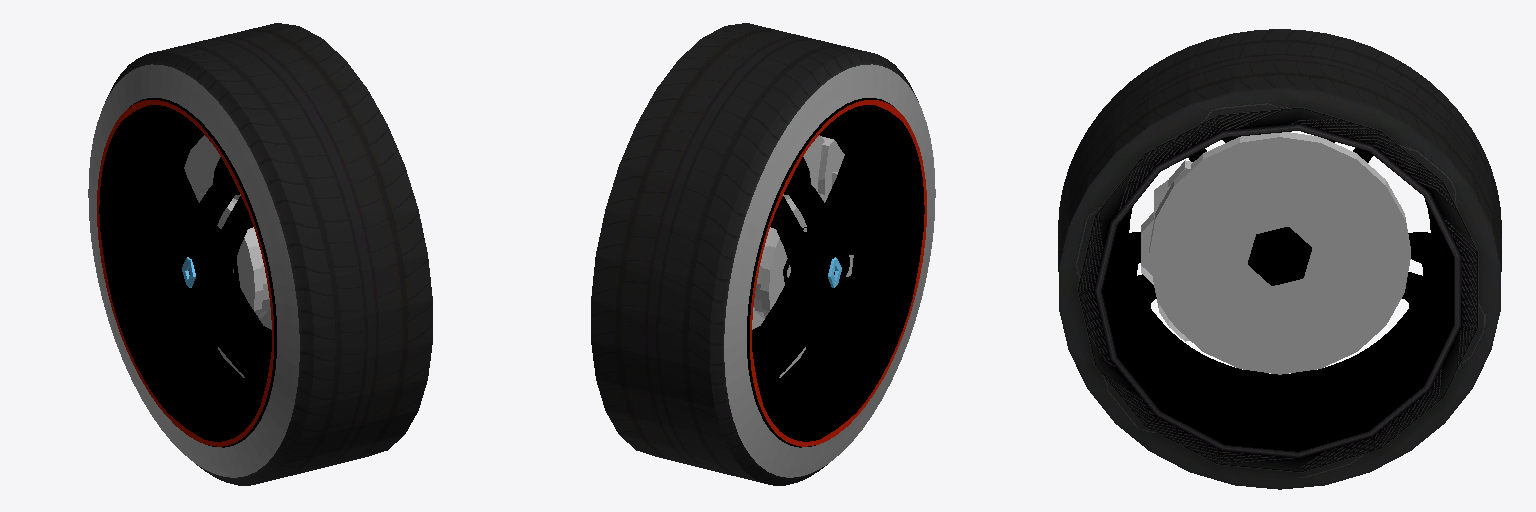
The picture shows the model from 3 angles: view 1: azimuth 30°, elevation 25°; view 2: azimuth 150°, elevation 25°; view 3: azimuth 270°, elevation 25°; orthographic projection.
Visible parts, largest first — view 1: pneu; view 2: pneu; view 3: pneu.
Part boxes in pixels (x1,y1,x2,y2): pneu: (88, 23, 432, 485); pneu: (591, 23, 935, 485); pneu: (1058, 29, 1501, 489).
Bounding box in the file's own units: 0.2317 × 0.6143 × 0.6142.
Materials: 7 (2 with a texture image).